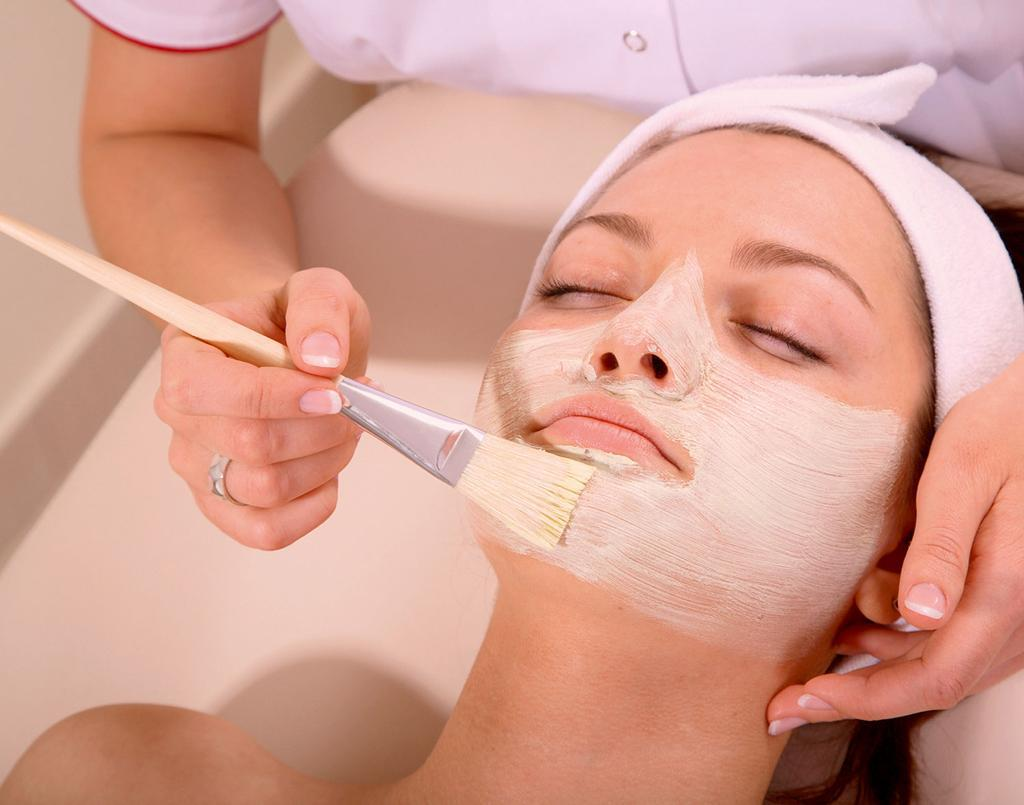face: (543, 139, 891, 519)
